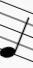E: (0, 0, 30, 60)
